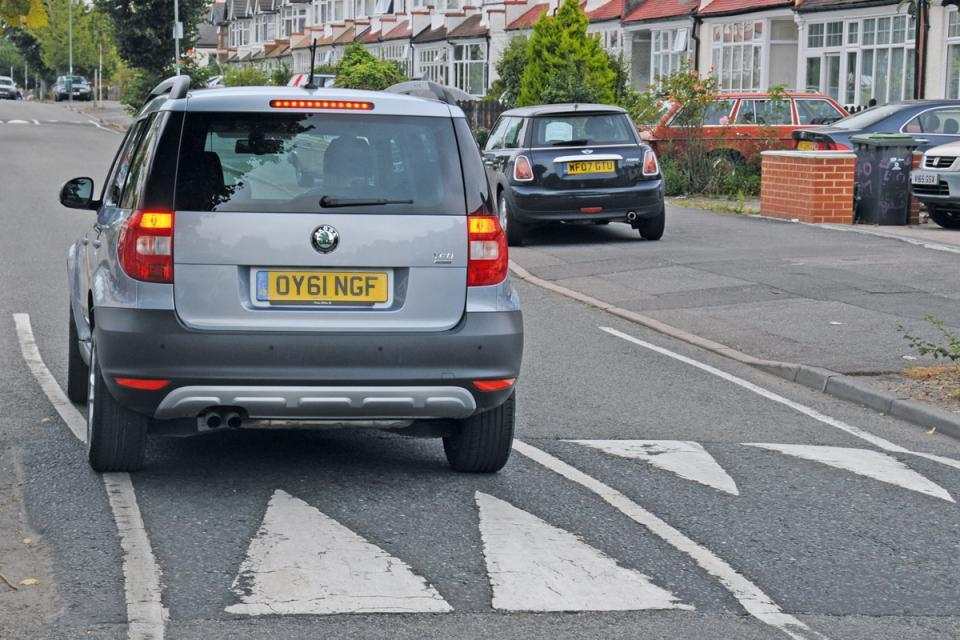Bump: (5, 458, 960, 574)
